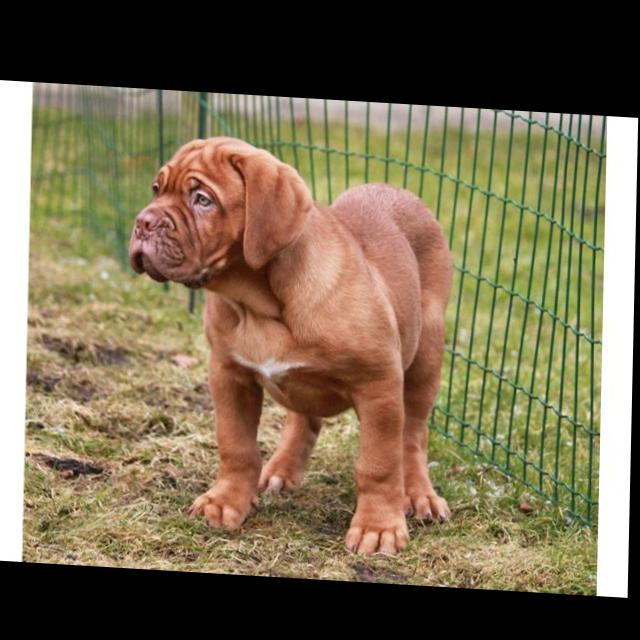dogue_de_bordeaux: (124, 128, 462, 558)
